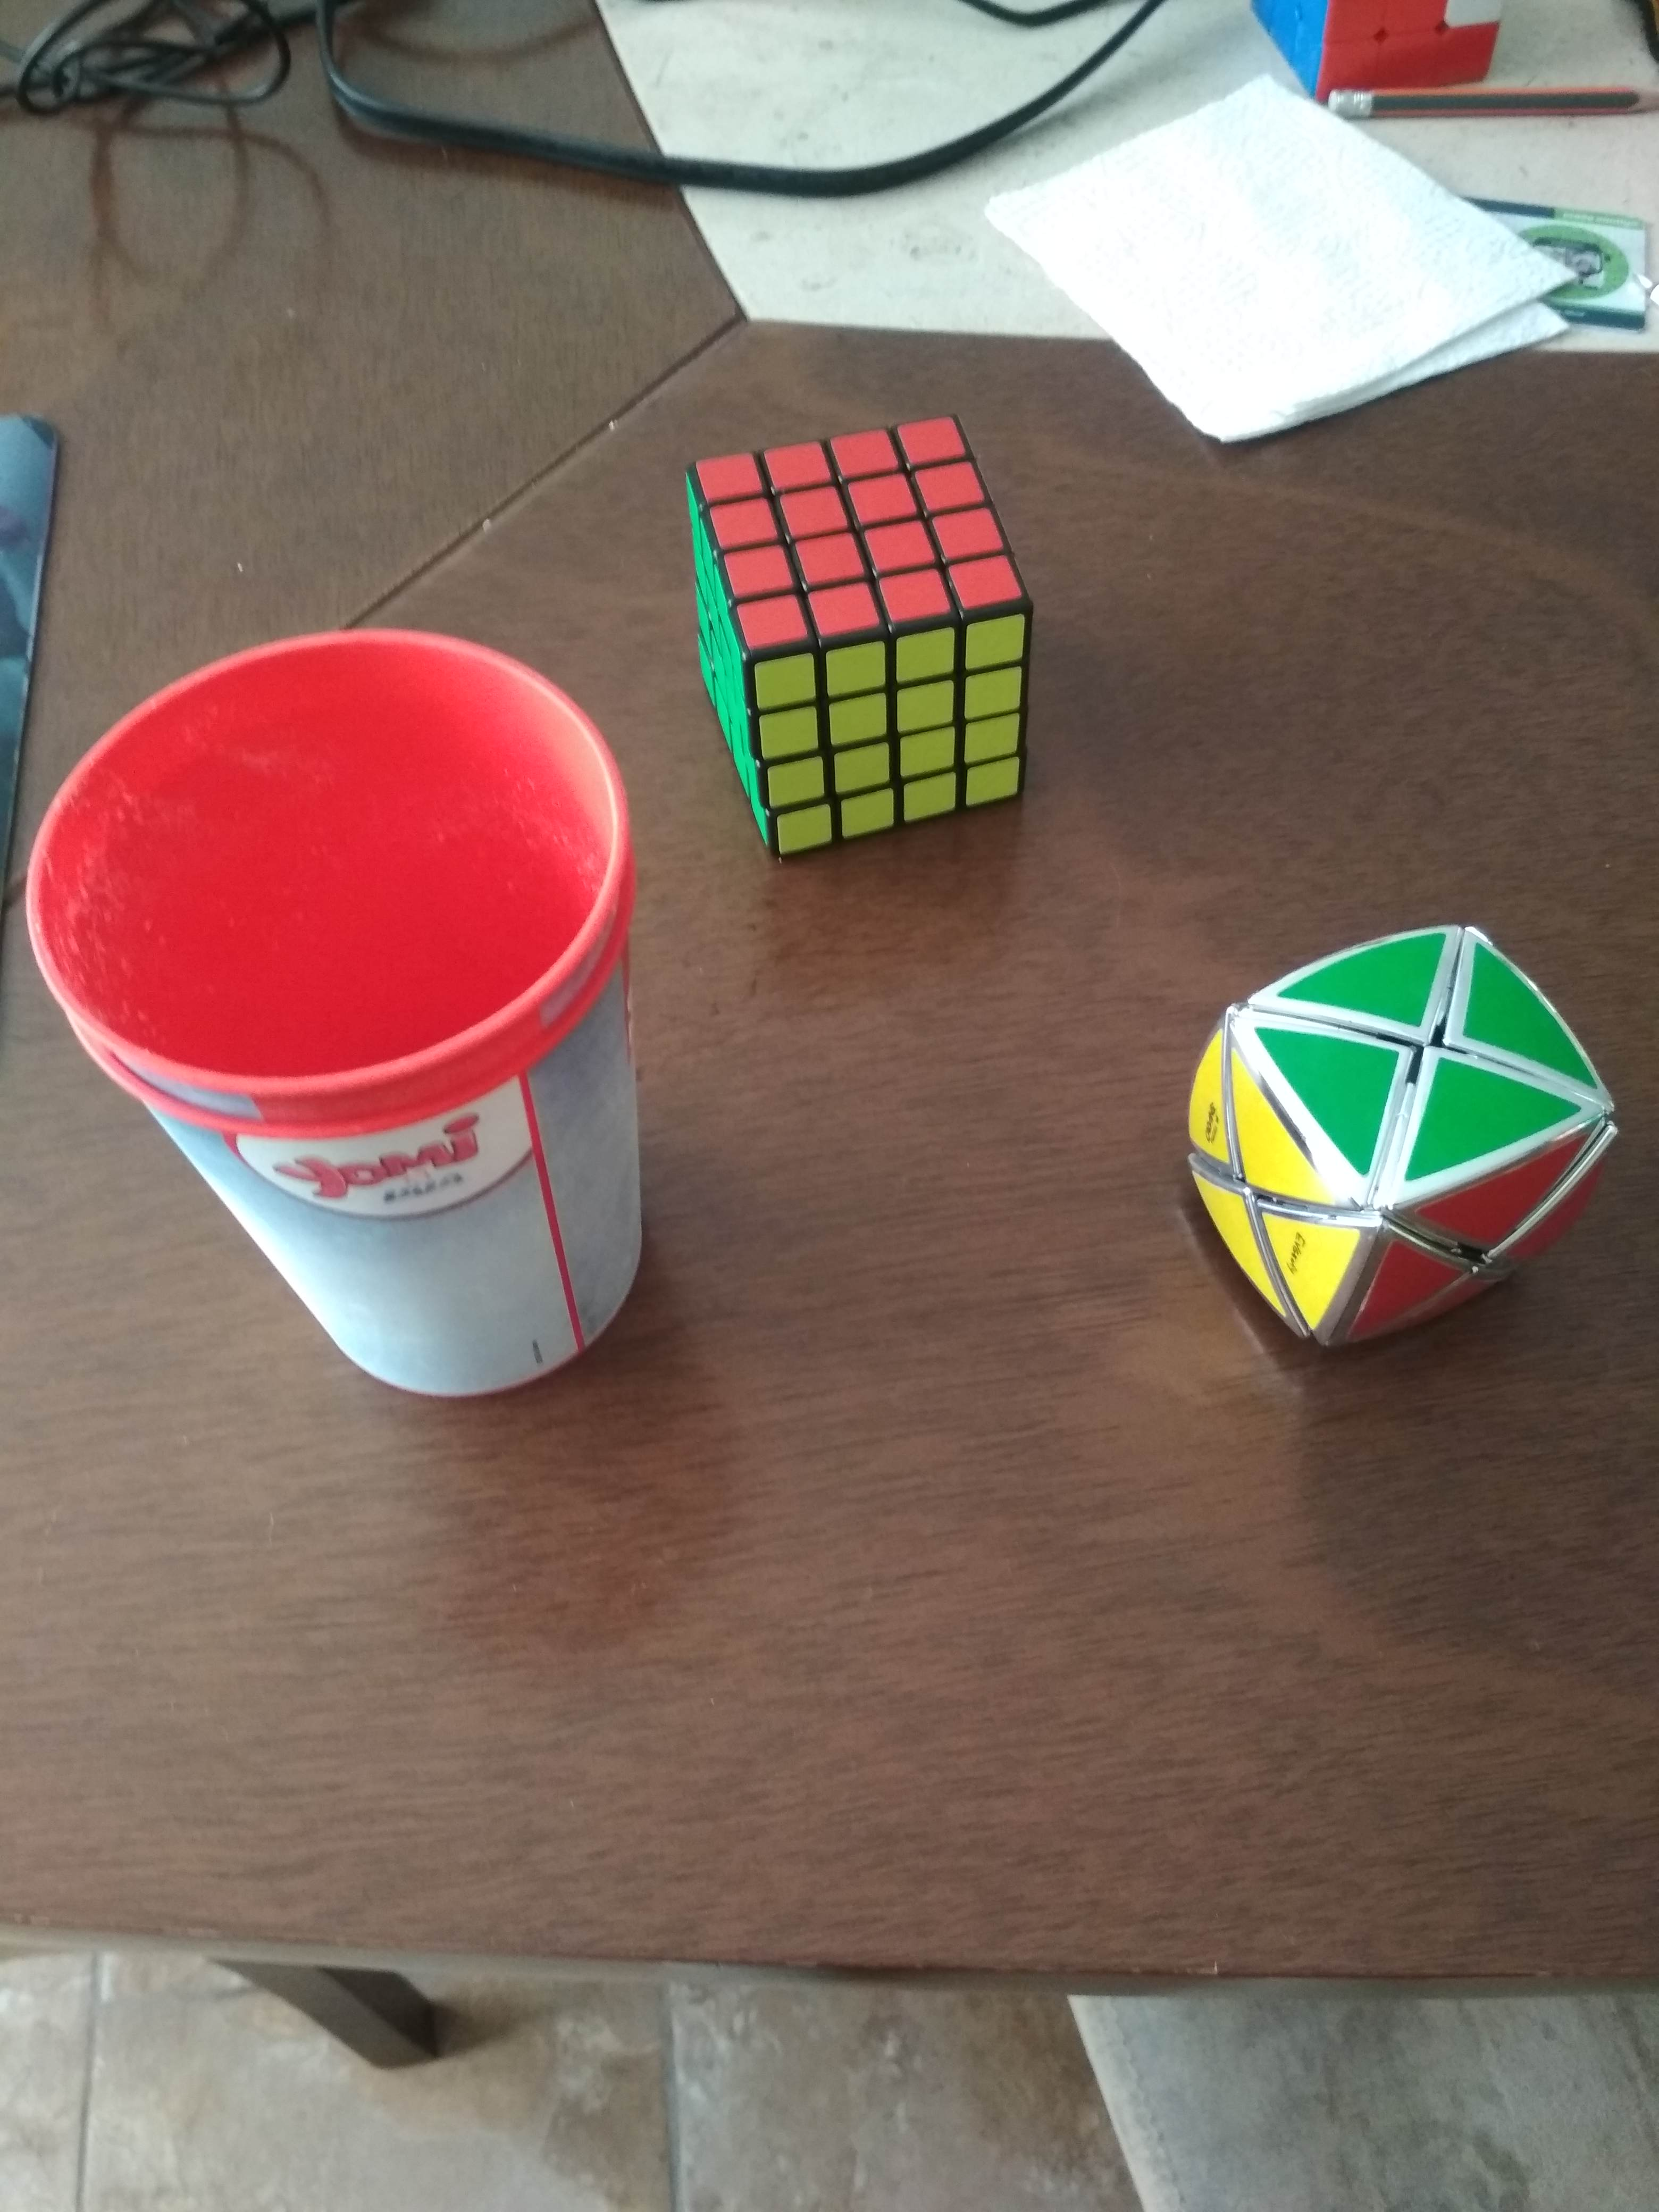glass: (9, 611, 666, 1430)
rubik_cube: (1168, 904, 1631, 1376), (673, 399, 1051, 888), (1239, 0, 1511, 120)
